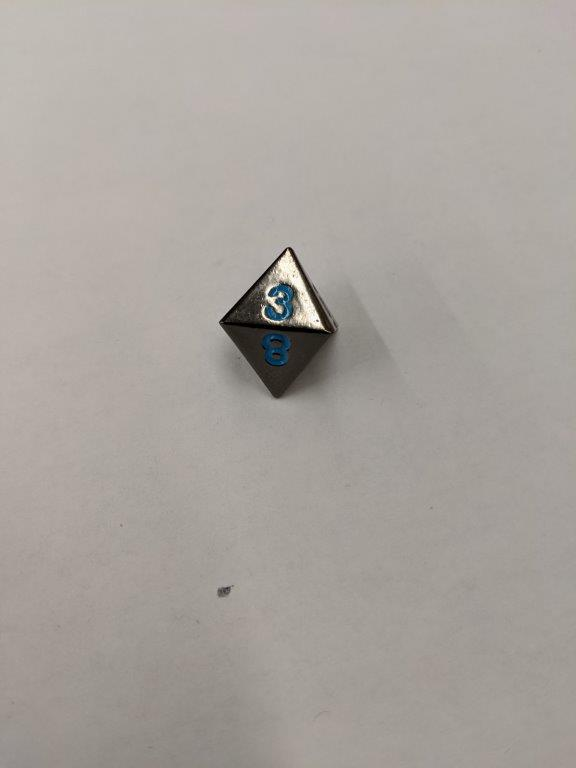d8-3: (218, 246, 340, 403)
